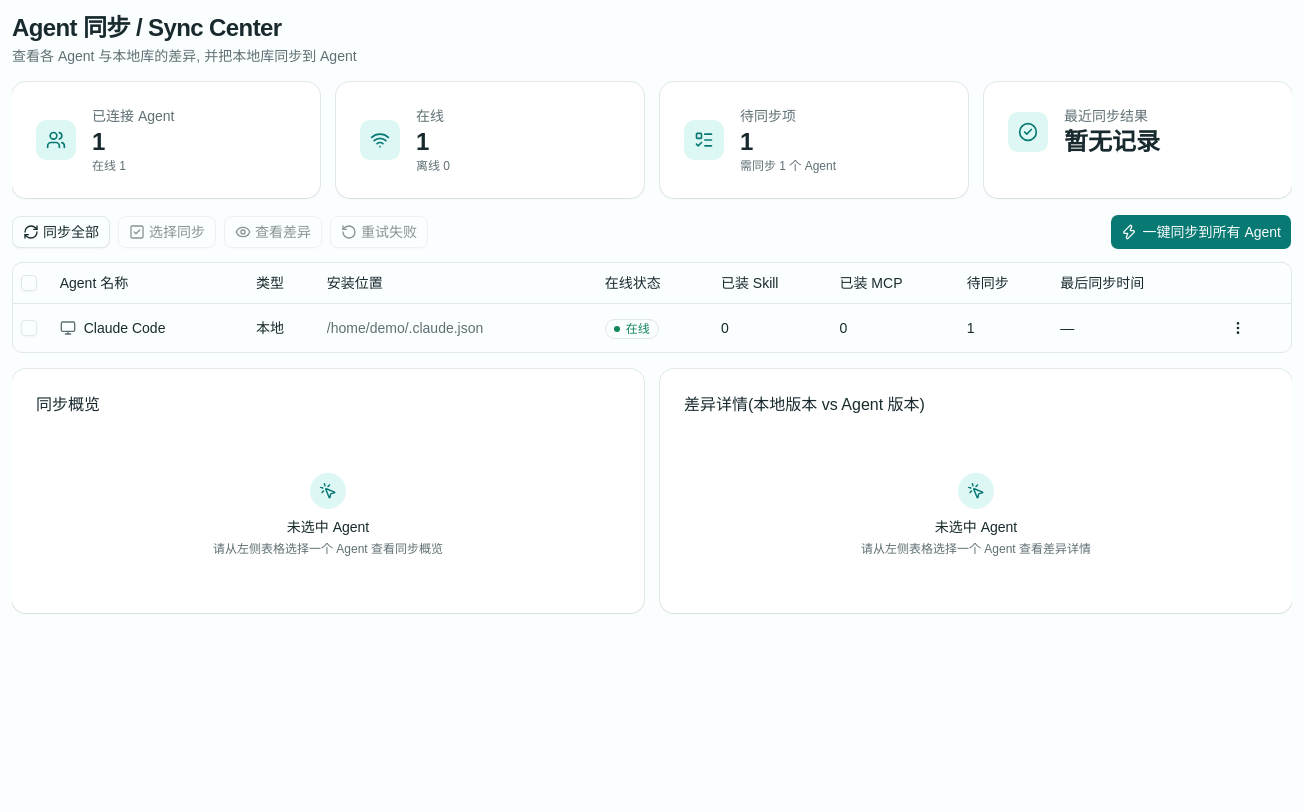
SyncCenter 页面 › 点击某 Agent 行应据其 sync_diff 结果打开差异面板并显示条目
The width and height of the screenshot is (1304, 812).
Click the text "Claude Code".
click(125, 328)  # box [84,318,165,338]
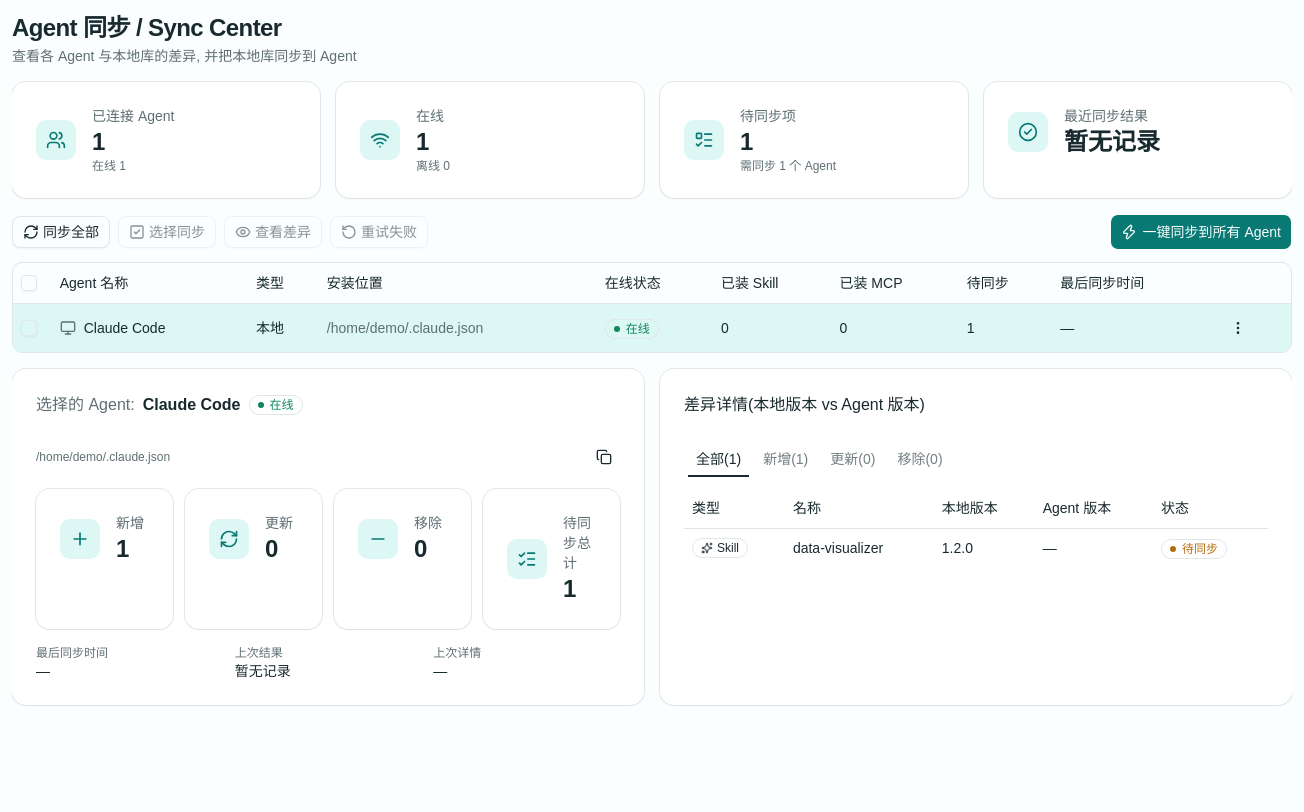
Expected: the text "data-visualizer" is shown, [785,528,934,567]
Expected: the tab "全部(1)" is shown, [687,444,750,473]
